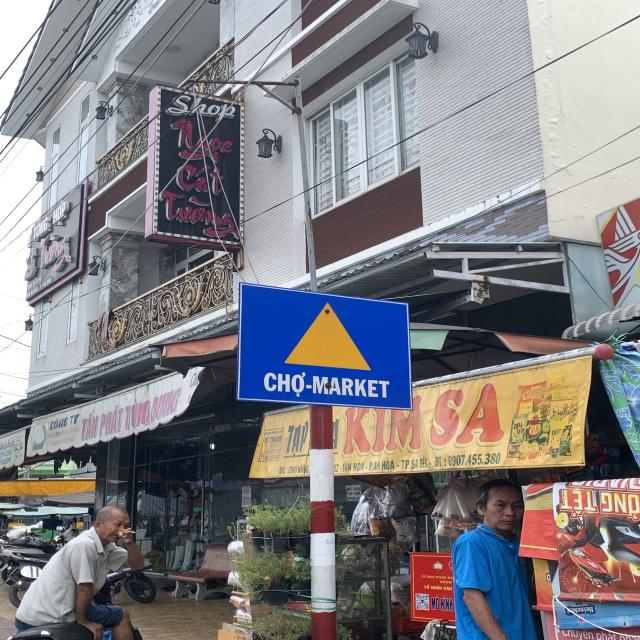Cho_Quay_Xe: (239, 283, 413, 411)
